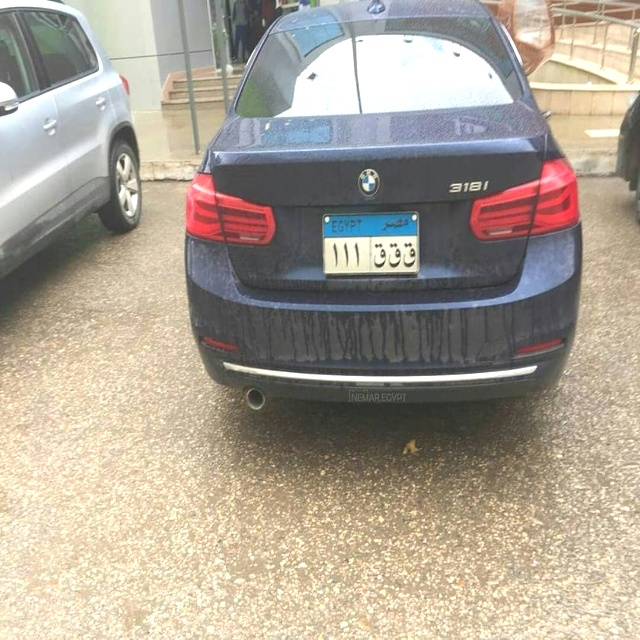License Plate: (319, 209, 423, 277)
